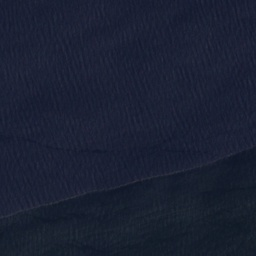Marine Debris: (0, 144, 256, 220)
